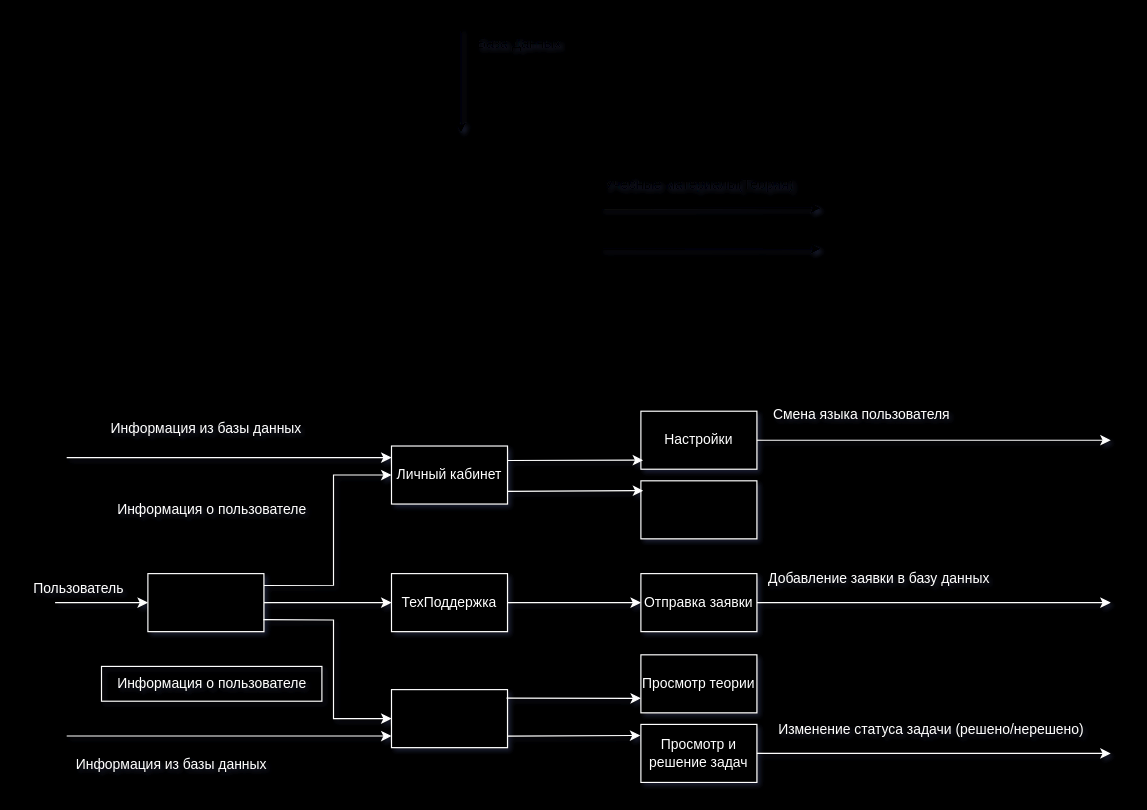
This 1147x810 diagram has some shape labels left out. Each missing label, with the centre of its shape:
"Выбор языка программирования и темы" belongs at point 448,718.
"Запуск бота" belongs at point 205,602.
"Прогресс" belongs at point 698,509.
